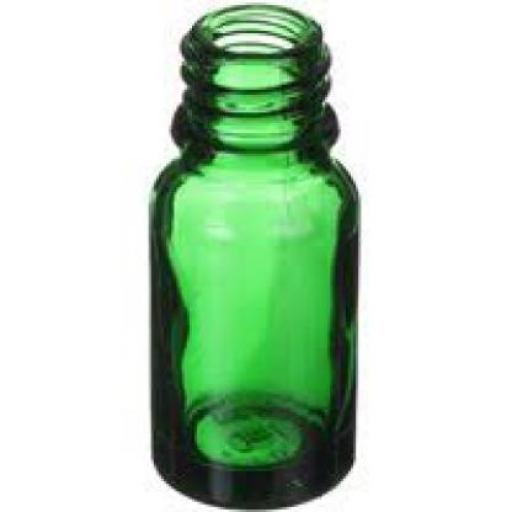glass: (144, 3, 356, 507)
